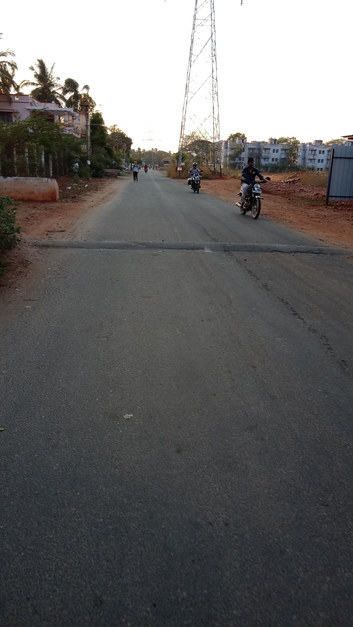bump: (27, 237, 353, 256)
